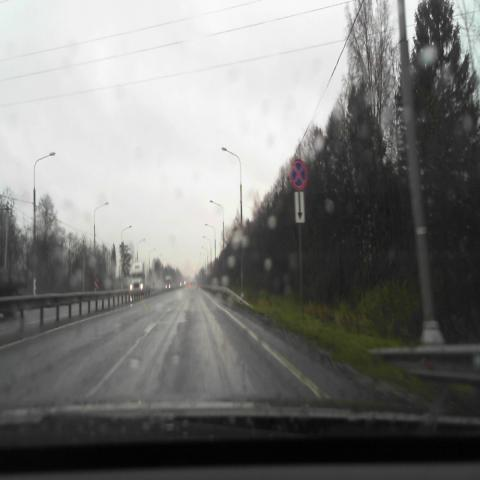8_2_3: (294, 192, 306, 224)
